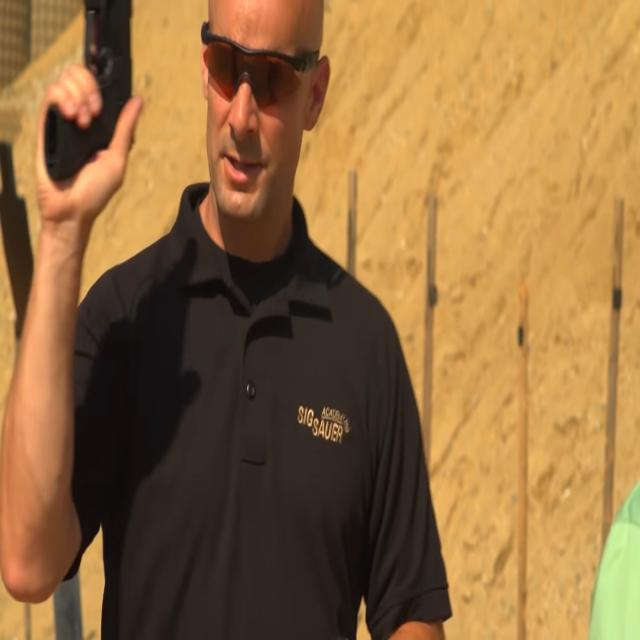Gun_Holder: (39, 0, 159, 189)
Person: (21, 0, 440, 640)
